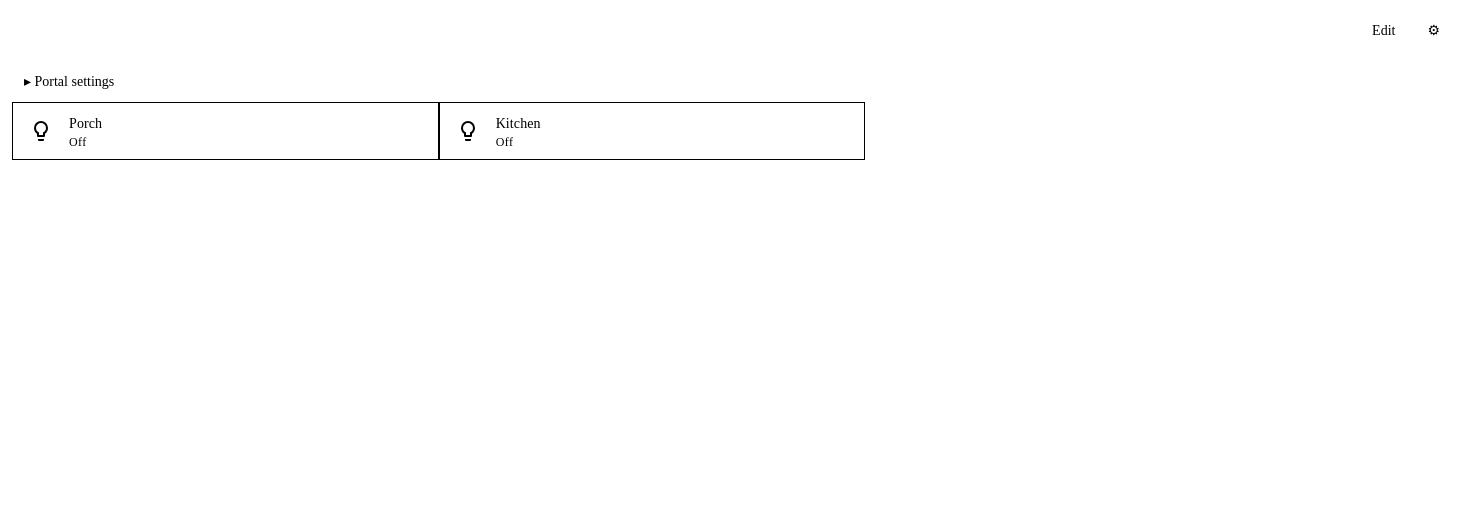
Test: Portal page › The deployment settings overlay › the gear icon opens the deployment settings panel
Click the button named "settings" at (1434, 30), box [1415,12,1452,49]
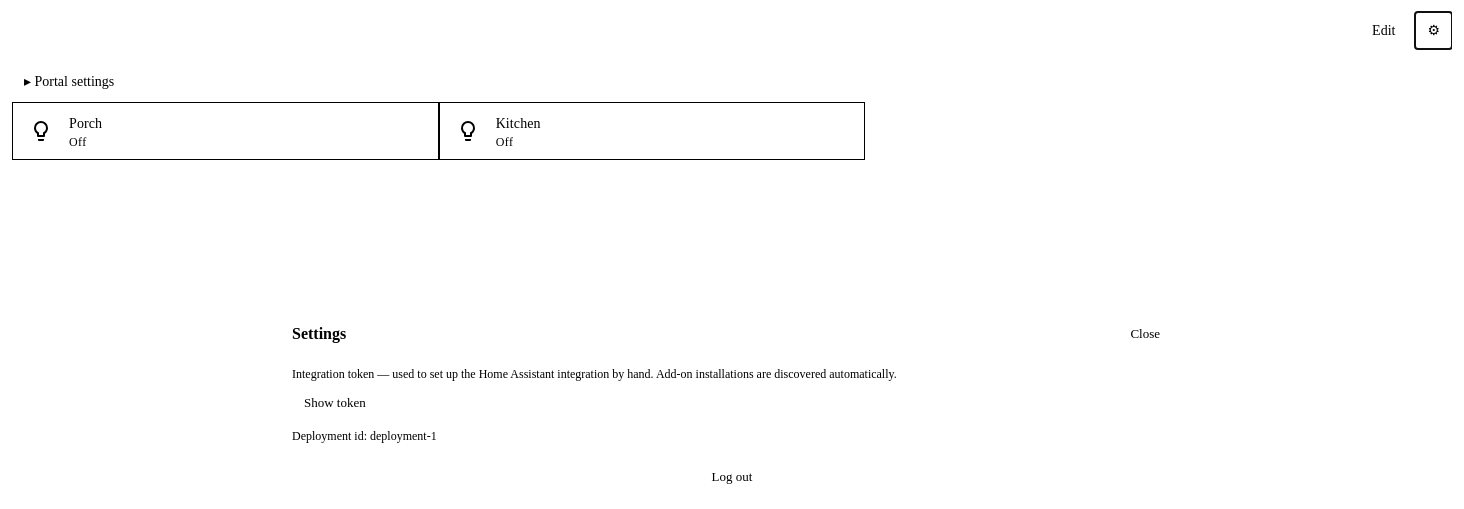
Now the element with test id "deployment-settings-panel" is shown, box [292,318,1172,492]
